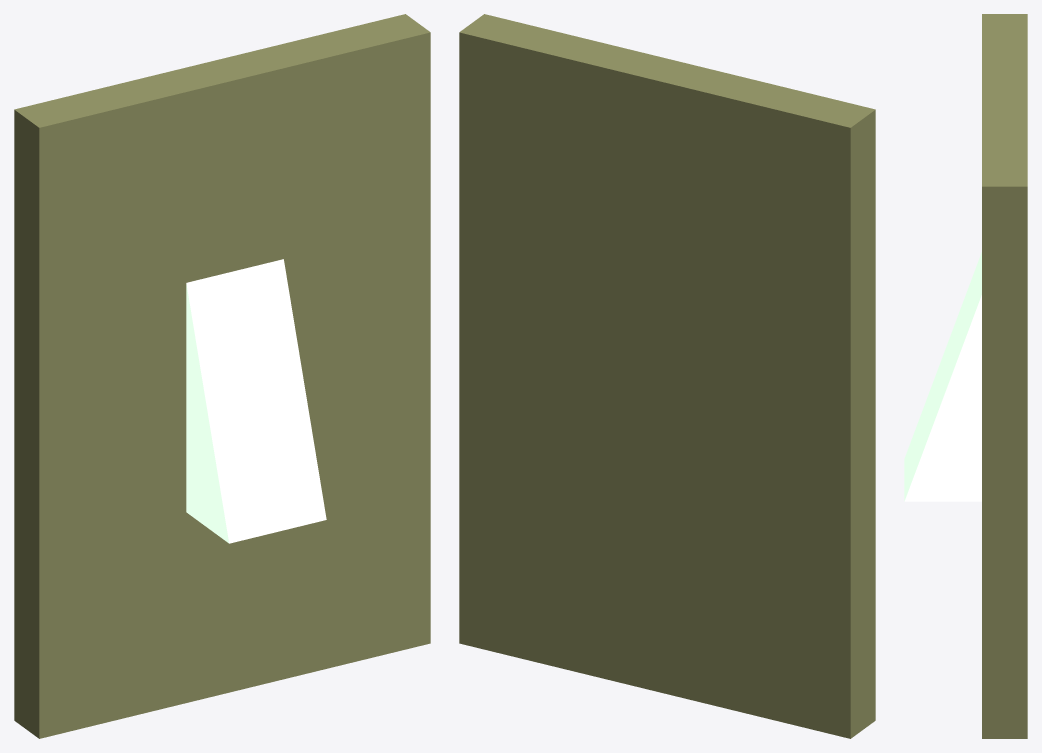
The model's file is Interrupitor.fbx.
3 renders of one model, left to right at view 1: azimuth 30°, elevation 25°; view 2: azimuth 150°, elevation 25°; view 3: azimuth 270°, elevation 25°, orthographic. The views are drawn at different scales.
Visible parts, largest first — view 1: Cube; view 2: Cube; view 3: Cube.
Boxes of the visible parts, x1,y1,x2,y2 form: Cube: (14,14,430,738); Cube: (459,14,875,738); Cube: (904,14,1027,738).
Size of the model in its own units: 200 by 298 by 60.23.
